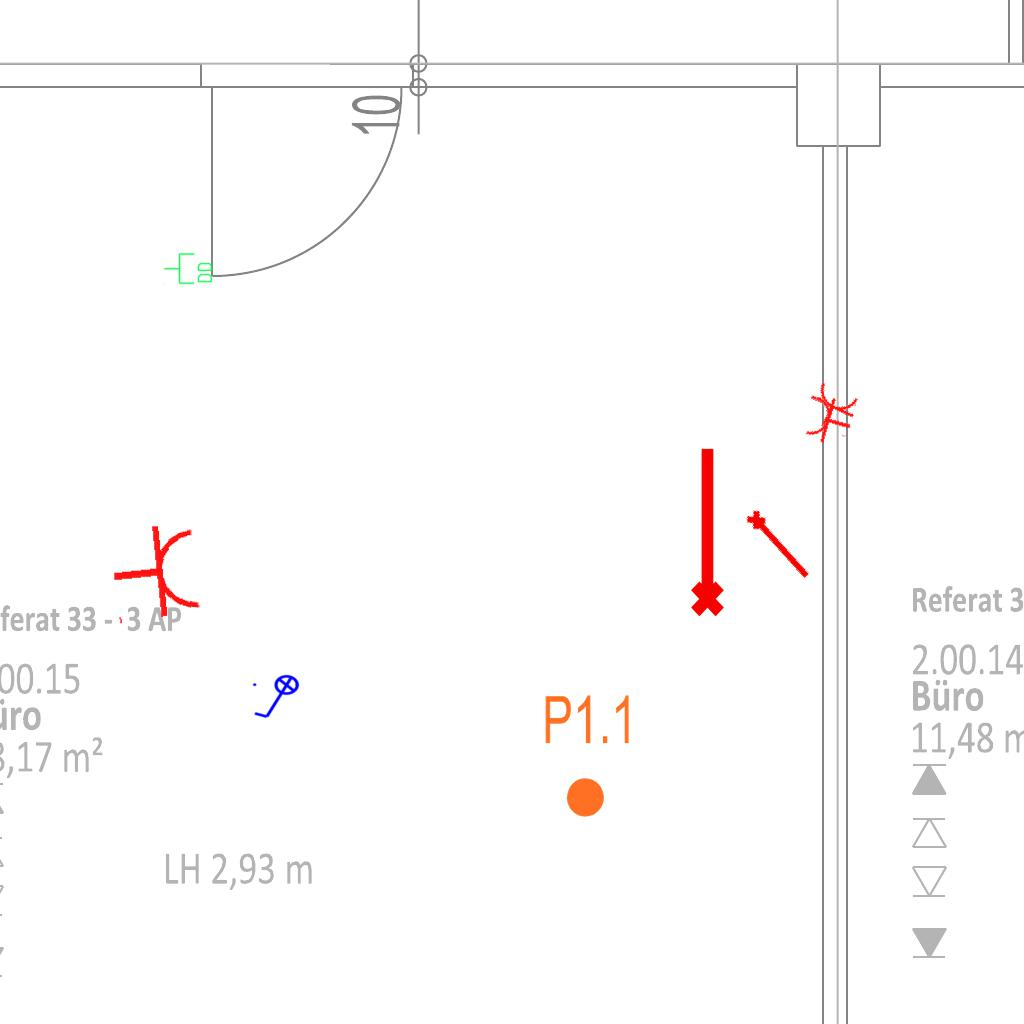ASR_Ansaugoeffnung: (682, 443, 728, 619), (742, 504, 818, 585)
Ausschalter_beleuchtet: (250, 674, 306, 722)
Datenanschluss_zweifach: (163, 252, 214, 286)
Downlight_LED_Einbauleuchten_Flur: (542, 692, 635, 820)
Schukosteckdose_einfach: (107, 519, 204, 629), (800, 378, 865, 440), (802, 390, 859, 450)
